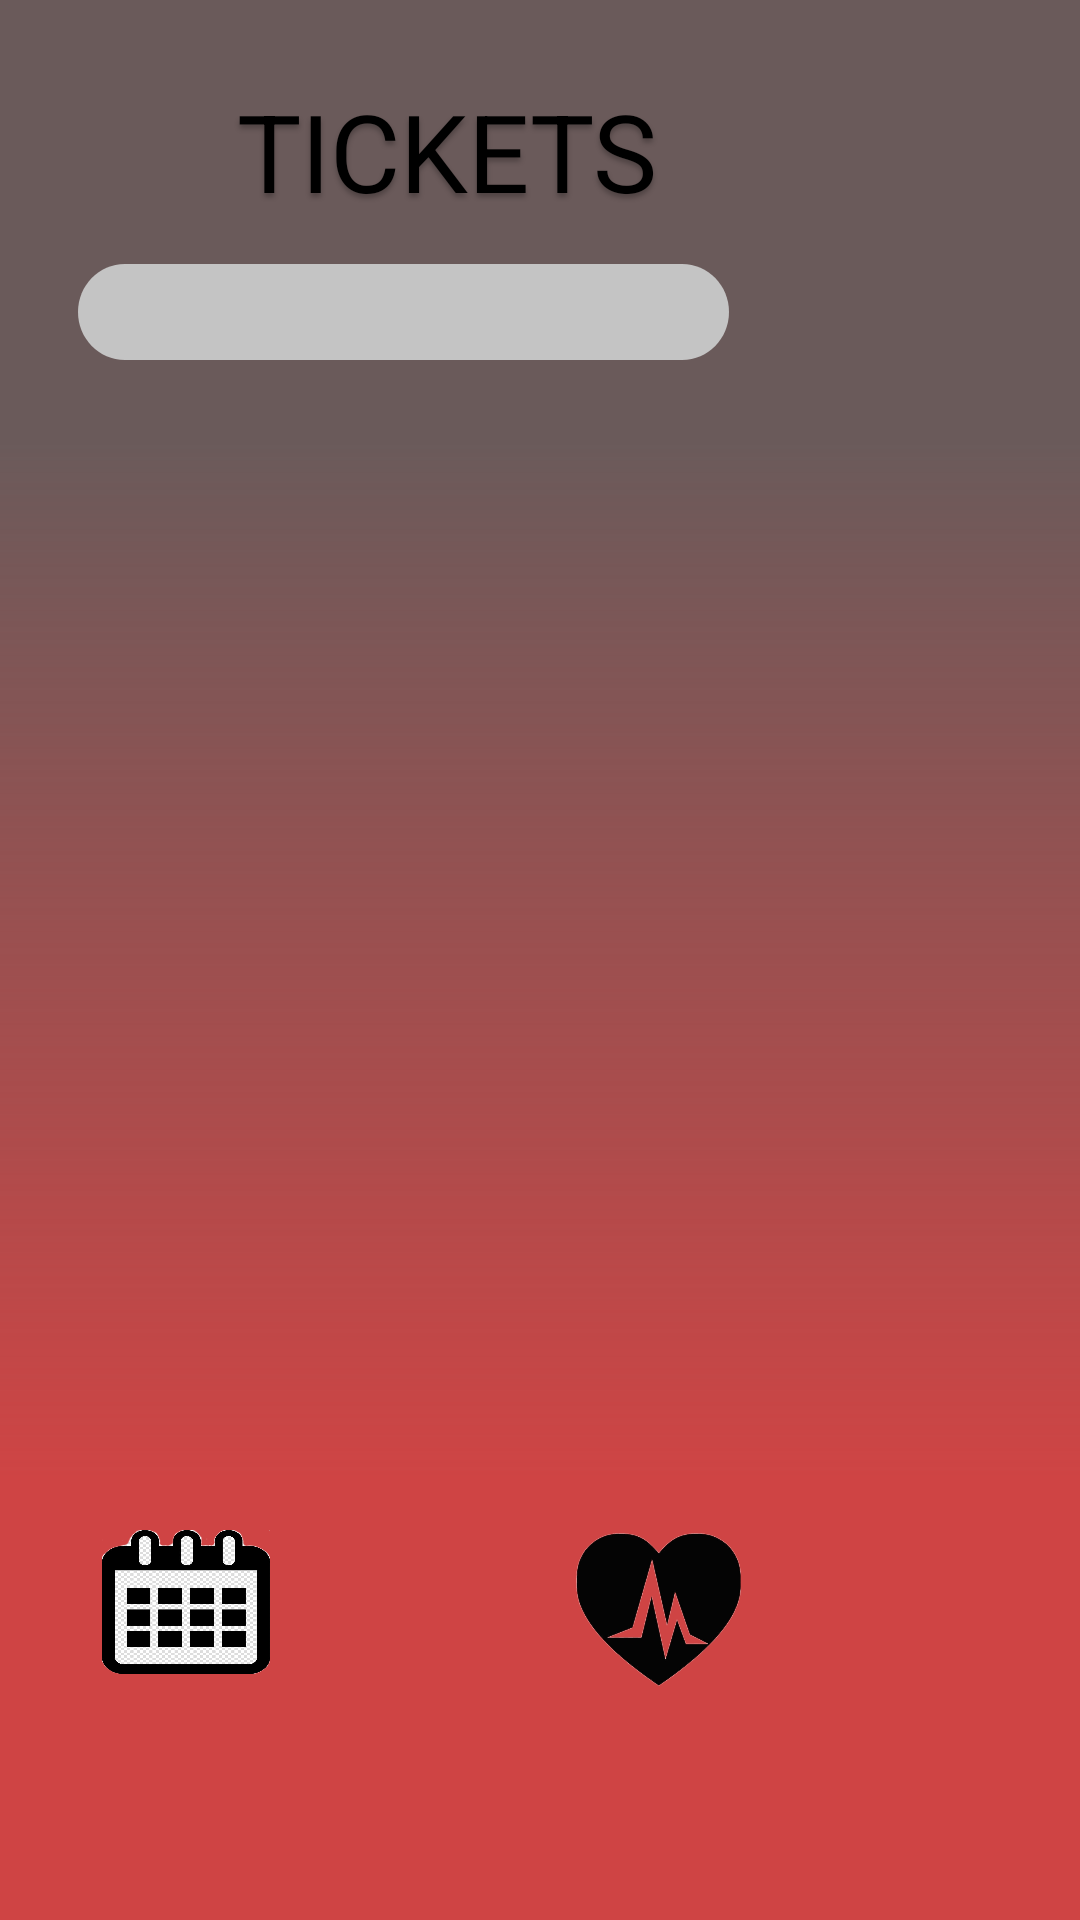

Icons on this 1080px x 1920px Android screen, each with the point to tap as [x,y]:
eventos: [186,1602]
